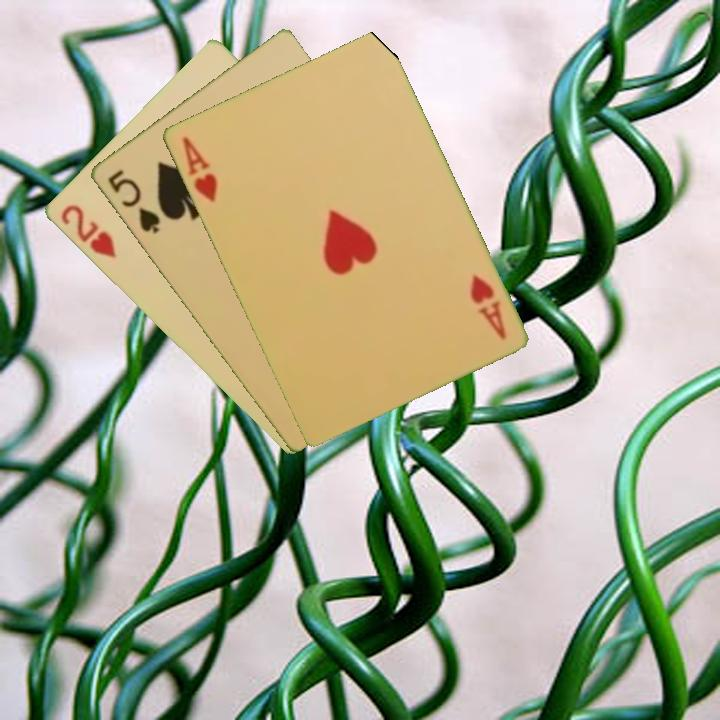2h: (56, 201, 119, 262)
5s: (103, 165, 163, 237)
Ah: (178, 133, 220, 206), (466, 271, 509, 342)
